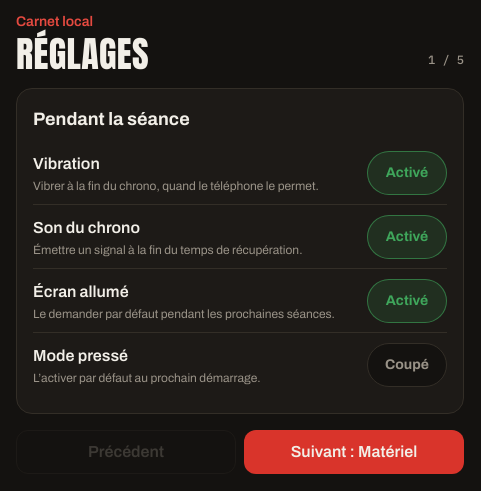
it: réglages › affiche les quatre préférences avec un état textuel et persiste un changement
Click the switch named "Vibration" at (407, 172), box [367,150,447,194]
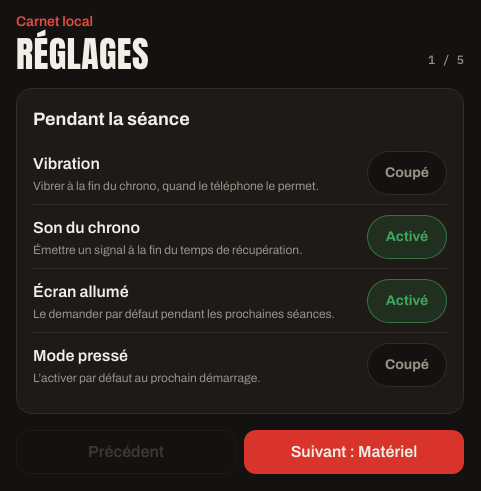
Expected: the number of switches is 4, [367,150,447,194]; [367,214,447,258]; [367,278,447,322]; [367,343,447,387]
Expected: the switch named "Vibration" reads "Coupé", [367,150,447,194]
